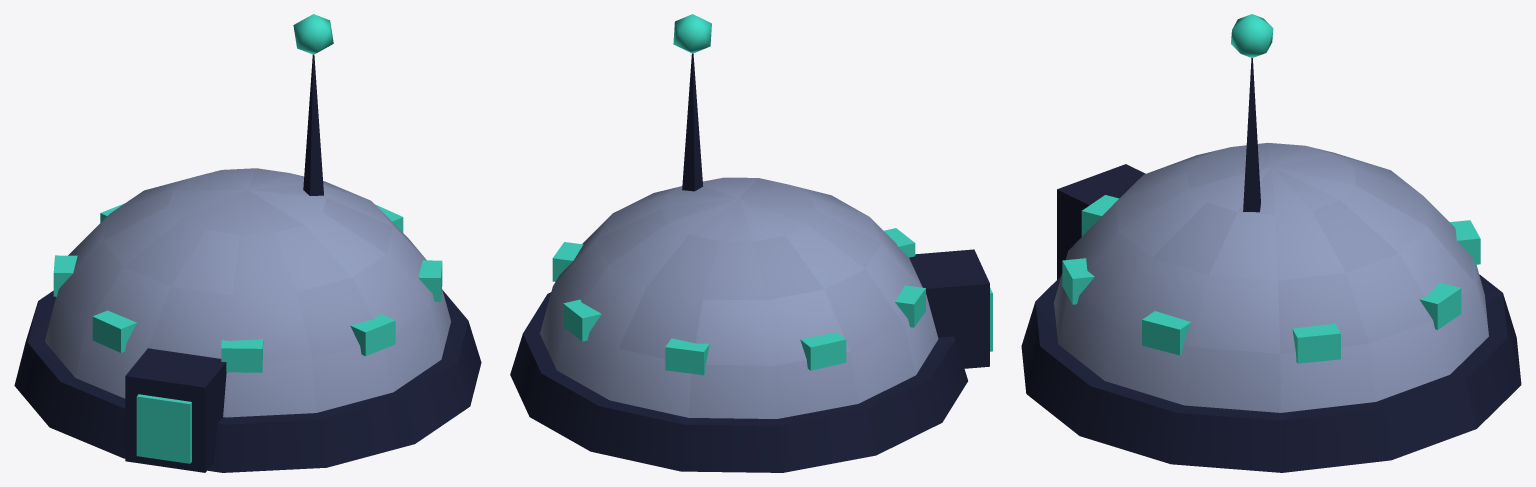
File: MODULE_ALIEN_FULL_3_DOME.fbx
3 renders of one model, left to right at view 1: azimuth 30°, elevation 25°; view 2: azimuth 150°, elevation 25°; view 3: azimuth 270°, elevation 25°, orthographic. The views are drawn at different scales.
Visible parts, largest first — view 1: MODULE_ALIEN_FULL_3_DOME_DECOR__export; view 2: MODULE_ALIEN_FULL_3_DOME_DECOR__export; view 3: MODULE_ALIEN_FULL_3_DOME_DECOR__export.
Part boxes in pixels (x1,y1,x2,y2): MODULE_ALIEN_FULL_3_DOME_DECOR__export: [14, 14, 481, 472]; MODULE_ALIEN_FULL_3_DOME_DECOR__export: [510, 14, 992, 472]; MODULE_ALIEN_FULL_3_DOME_DECOR__export: [1021, 14, 1521, 472].
Size of what is drawn, in the model's own units: 24.98 by 20.7 by 24.59.
